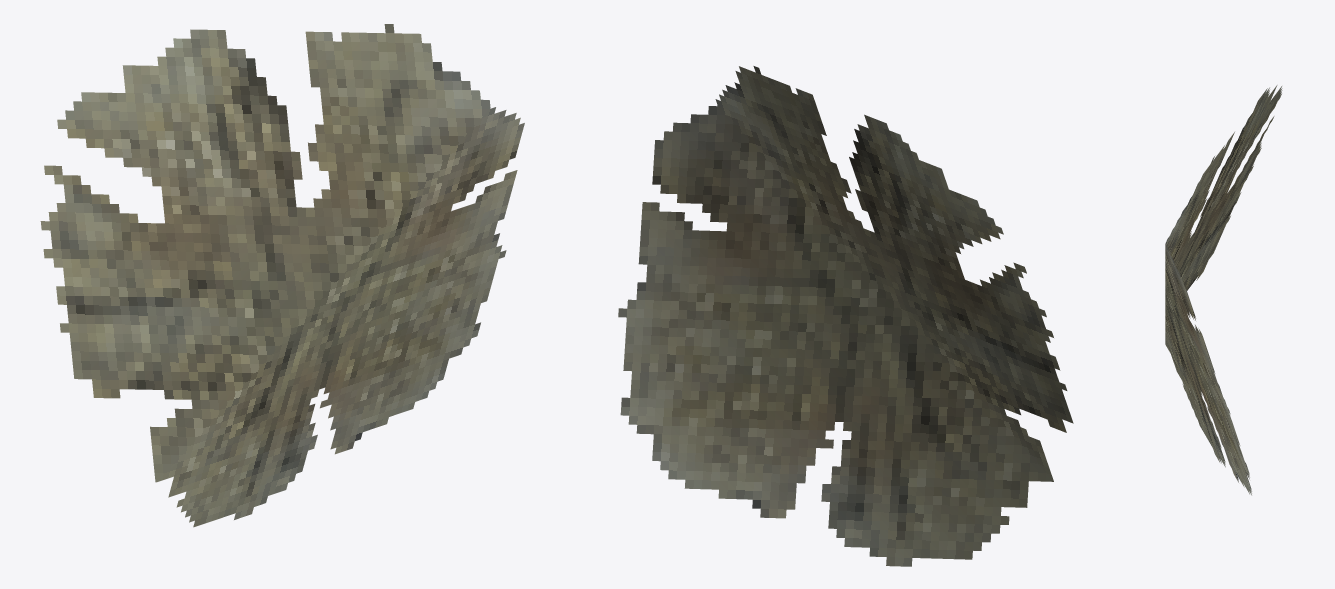
File: Small_Coral_02.fbx
3 renders of one model, left to right at view 1: azimuth 30°, elevation 25°; view 2: azimuth 150°, elevation 25°; view 3: azimuth 270°, elevation 25°, orthographic. The views are drawn at different scales.
Parts seen in each view (by area): view 1: Small_Coral_02; view 2: Small_Coral_02; view 3: Small_Coral_02.
Part boxes in pixels (left/top/right/bottom): Small_Coral_02: left=40, top=24, right=524, bottom=527; Small_Coral_02: left=618, top=66, right=1073, bottom=566; Small_Coral_02: left=1165, top=85, right=1282, bottom=495.
Bounding box in the file's own units: 0.1488 × 0.1488 × 0.0519.
